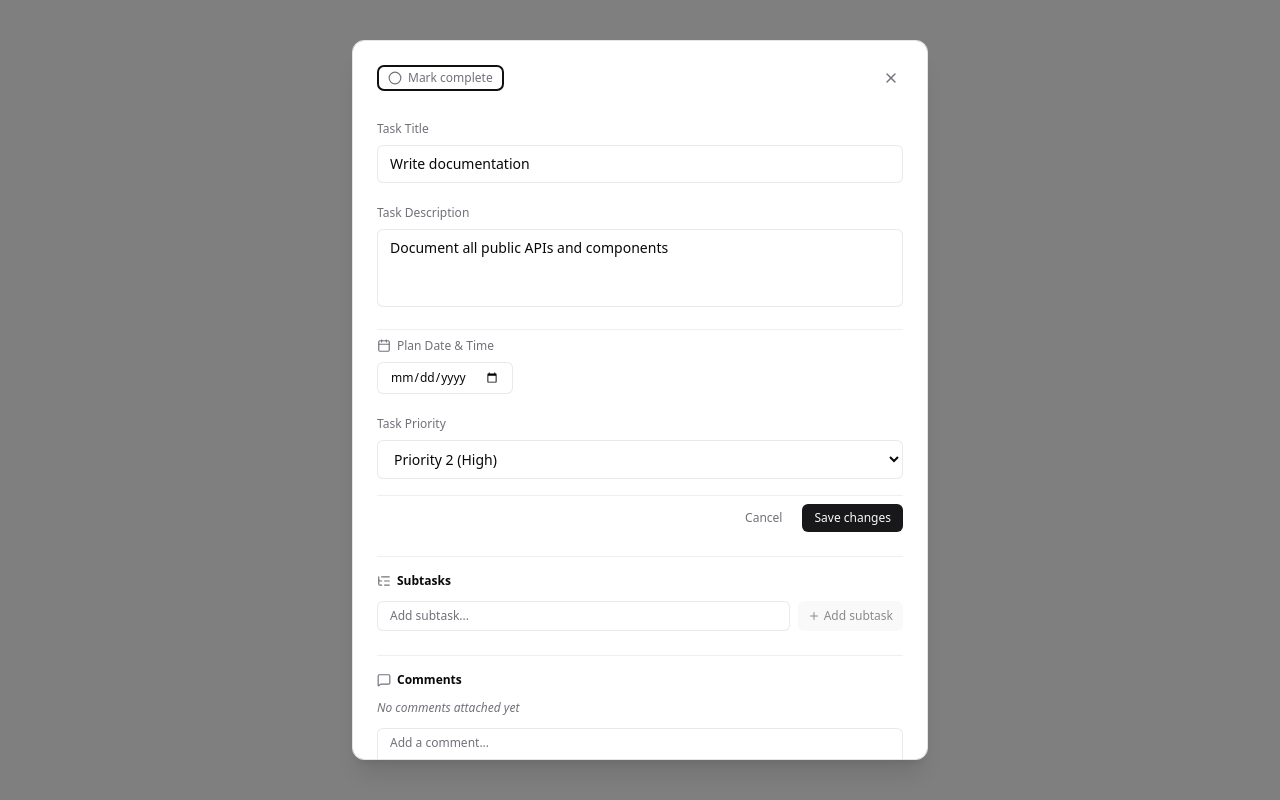
Test: TaskDetailModal Component › surfaces comment and subtask creation errors next to their respective sections
Note: Trigger comment failure
Type "Failing comment" into the text box labelled "Add a comment".
click(640, 751); type("Failing comment")  # box [377, 728, 903, 774]
(page scrolled)
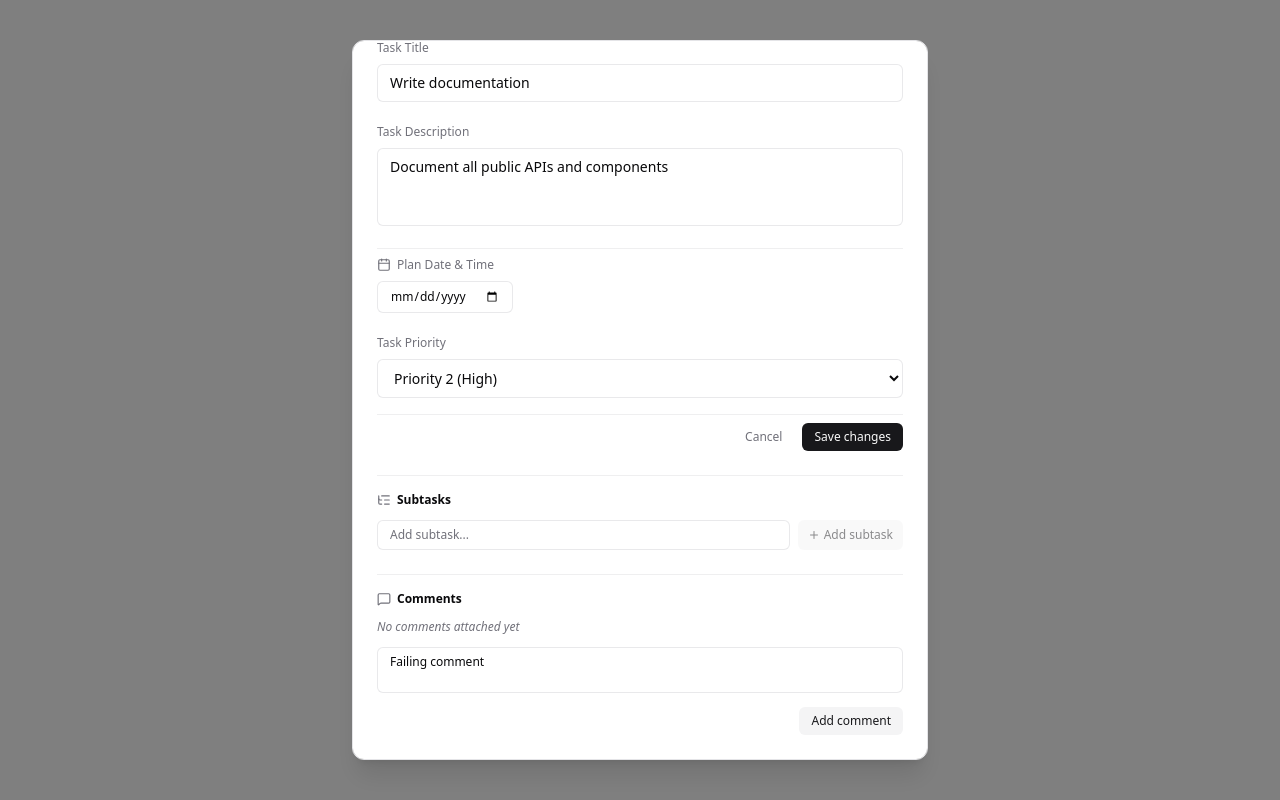
Click the button "Add comment".
click(851, 721)  # box [800, 707, 903, 735]
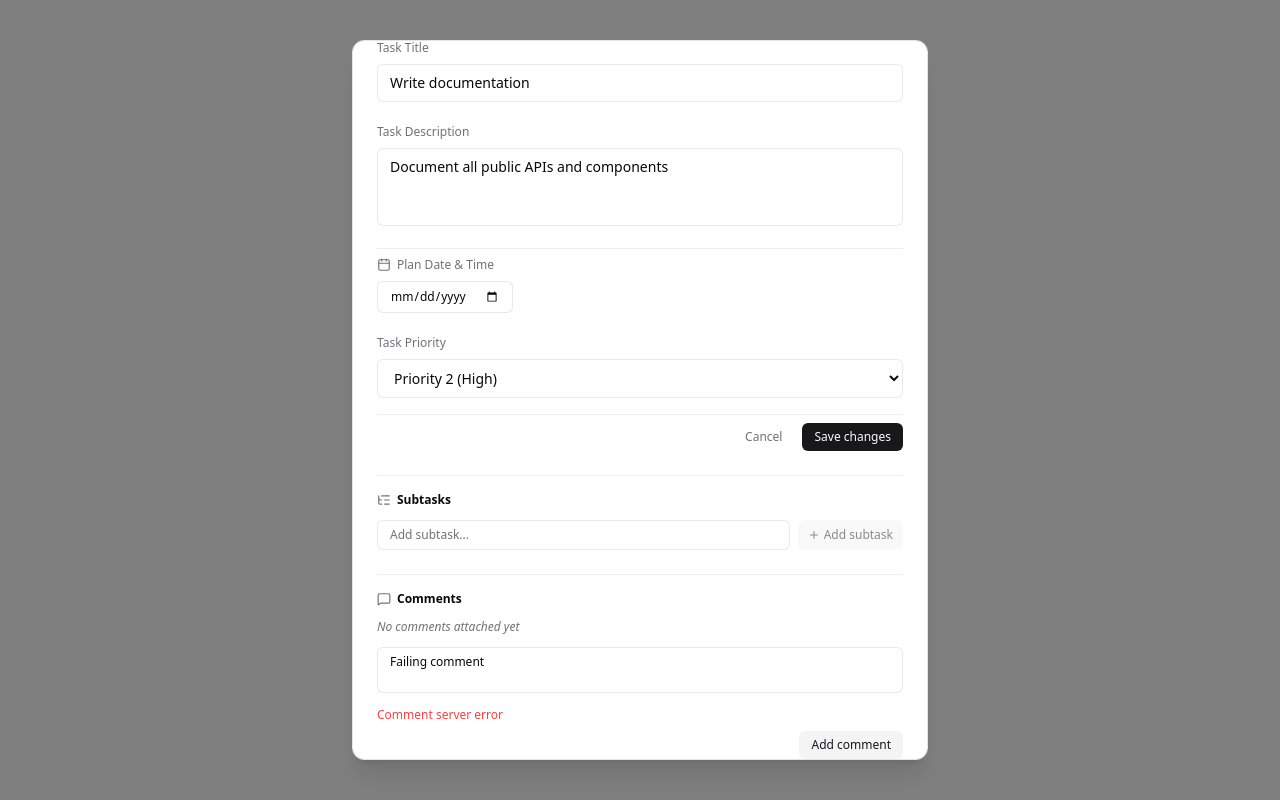
Expected: the text "Comment server error" is shown, [377, 706, 503, 723]
Note: Trigger subtask failure
Type "Failing subtask" into the field named "Add a subtask".
click(583, 535); type("Failing subtask")  # box [377, 520, 790, 550]
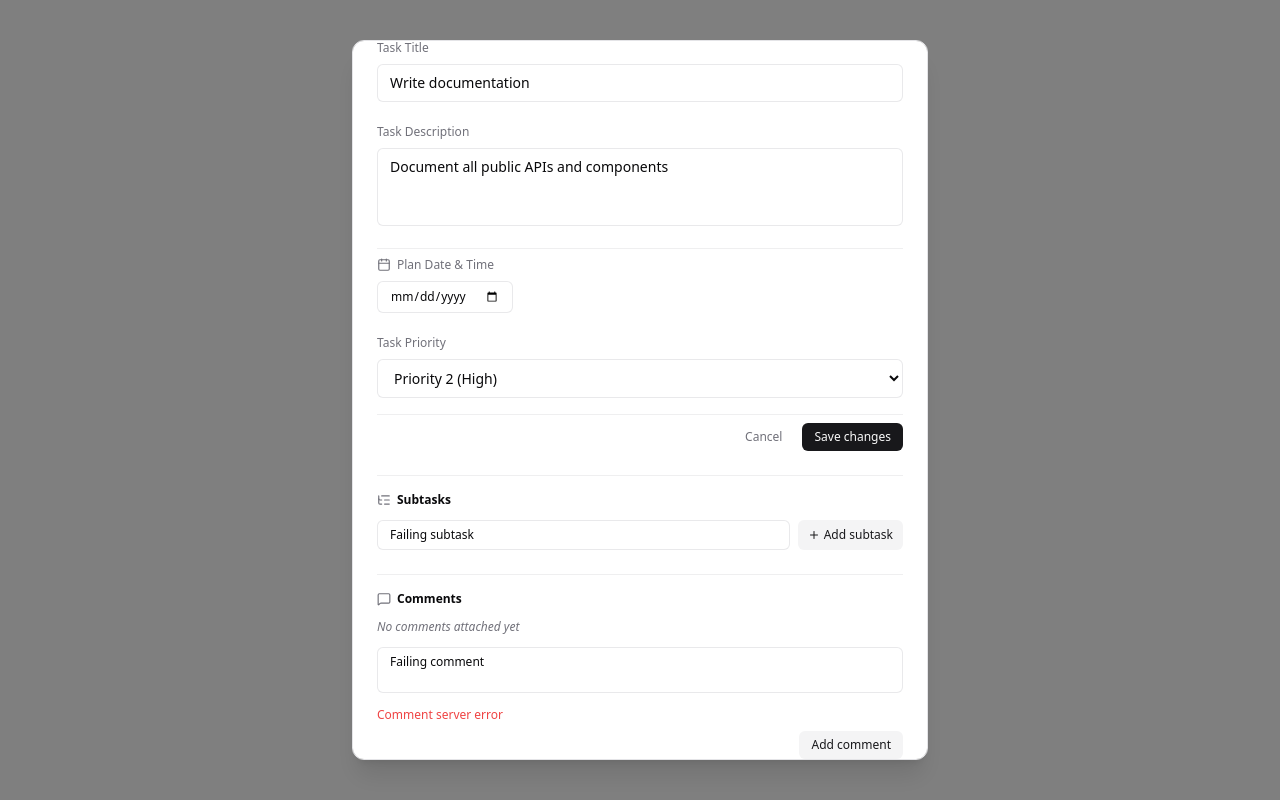
Click the button "Add subtask".
click(850, 535)  # box [798, 520, 903, 550]
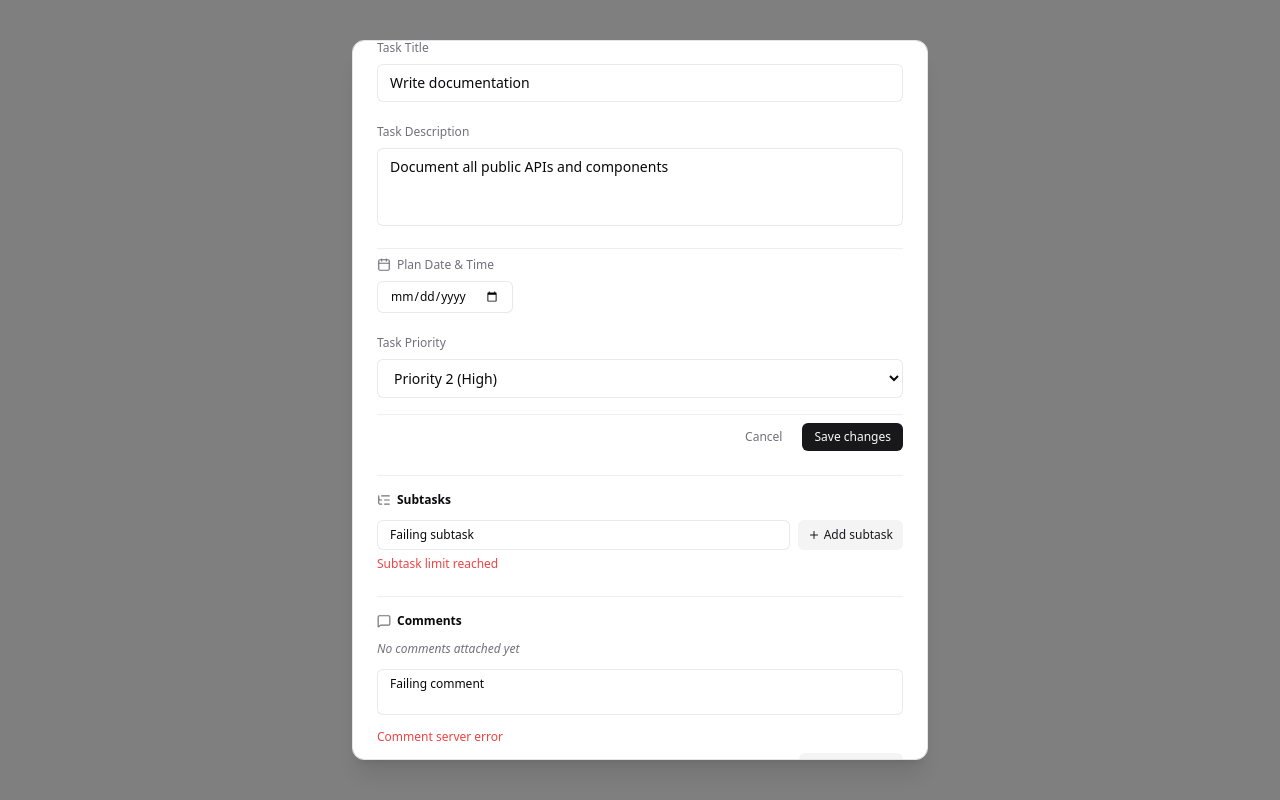
Expected: the text "Comment server error" is shown, [377, 728, 503, 745]
Expected: the text "Subtask limit reached" is shown, [377, 555, 498, 572]
